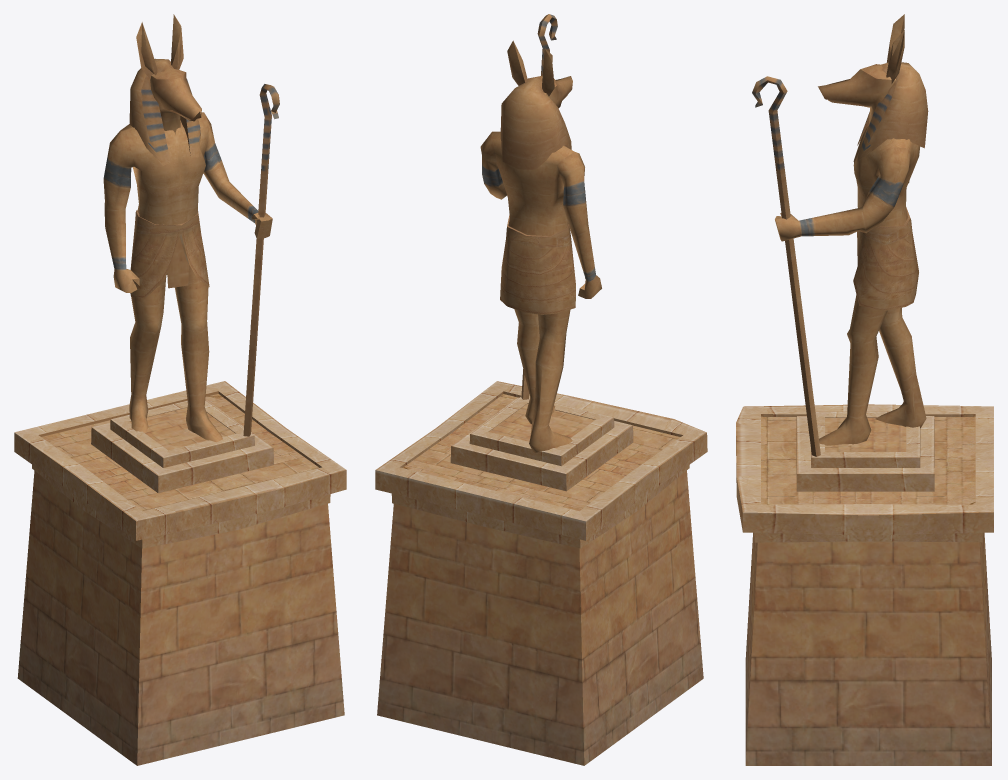
Rendered from diaoxiang01_he.FBX.
The picture shows the model from 3 angles, left to right: view 1: azimuth 30°, elevation 25°; view 2: azimuth 150°, elevation 25°; view 3: azimuth 270°, elevation 25°; orthographic projection. The views are drawn at different scales.
Visible parts, largest first — view 1: diaoxiang01_b, diaoxiang01_A, diaoxiang01_c; view 2: diaoxiang01_b, diaoxiang01_A, diaoxiang01_c; view 3: diaoxiang01_b, diaoxiang01_A, diaoxiang01_c.
Part boxes in pixels (x1,y1,x2,y2): diaoxiang01_b: [17, 394, 344, 765]; diaoxiang01_A: [103, 14, 279, 442]; diaoxiang01_c: [14, 381, 346, 548]; diaoxiang01_b: [377, 394, 703, 765]; diaoxiang01_A: [480, 14, 601, 453]; diaoxiang01_c: [375, 381, 707, 548]; diaoxiang01_b: [745, 416, 991, 765]; diaoxiang01_A: [752, 14, 928, 456]; diaoxiang01_c: [736, 404, 993, 542].
Bounding box in the file's own units: 10.25 × 30.92 × 10.5.
